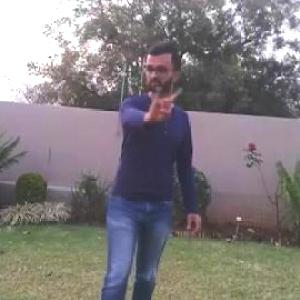takeoff-hand: (144, 80, 184, 126)
